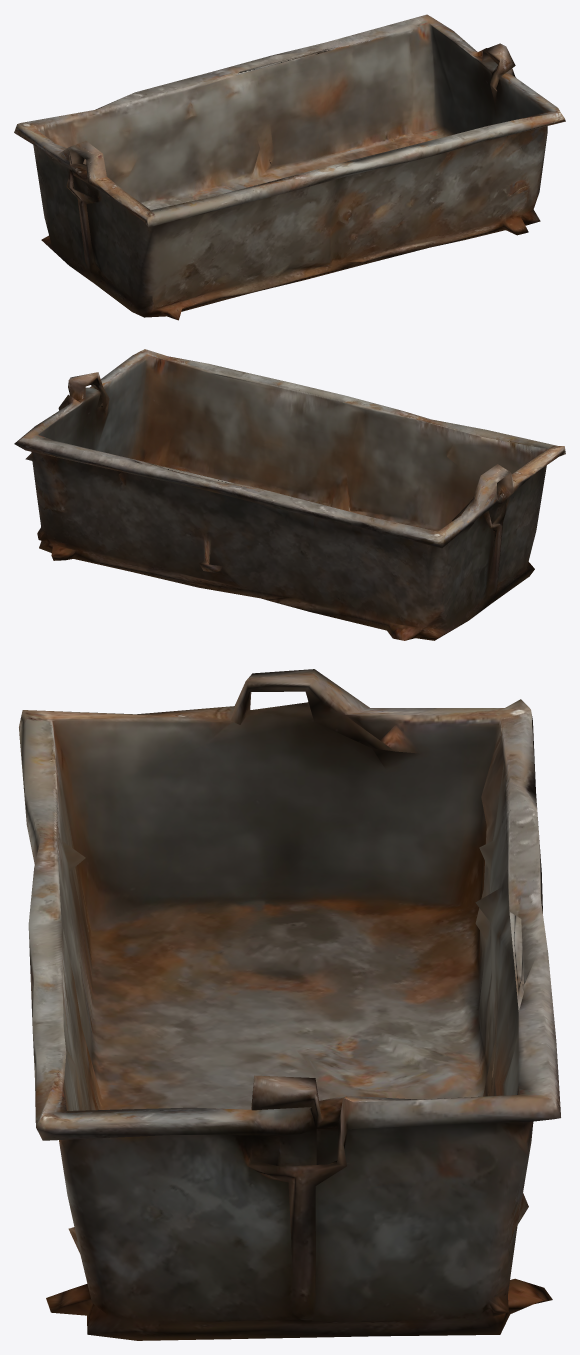
File: cs_water.glb
The picture shows the model from 3 angles, top to bottom: view 1: azimuth 30°, elevation 25°; view 2: azimuth 150°, elevation 25°; view 3: azimuth 270°, elevation 25°; orthographic projection. The views are drawn at different scales.
Parts seen in each view (by area): view 1: tripo_node_fd21f75e-2918-46ea-bee5-b1147a76c39a; view 2: tripo_node_fd21f75e-2918-46ea-bee5-b1147a76c39a; view 3: tripo_node_fd21f75e-2918-46ea-bee5-b1147a76c39a.
Boxes of the visible parts, <box> form: tripo_node_fd21f75e-2918-46ea-bee5-b1147a76c39a: <box>14,14,565,320</box>; tripo_node_fd21f75e-2918-46ea-bee5-b1147a76c39a: <box>14,349,565,640</box>; tripo_node_fd21f75e-2918-46ea-bee5-b1147a76c39a: <box>19,669,560,1340</box>.
Bounding box in the file's own units: 1 × 0.3015 × 0.5443.
1 material, 1 textured.
